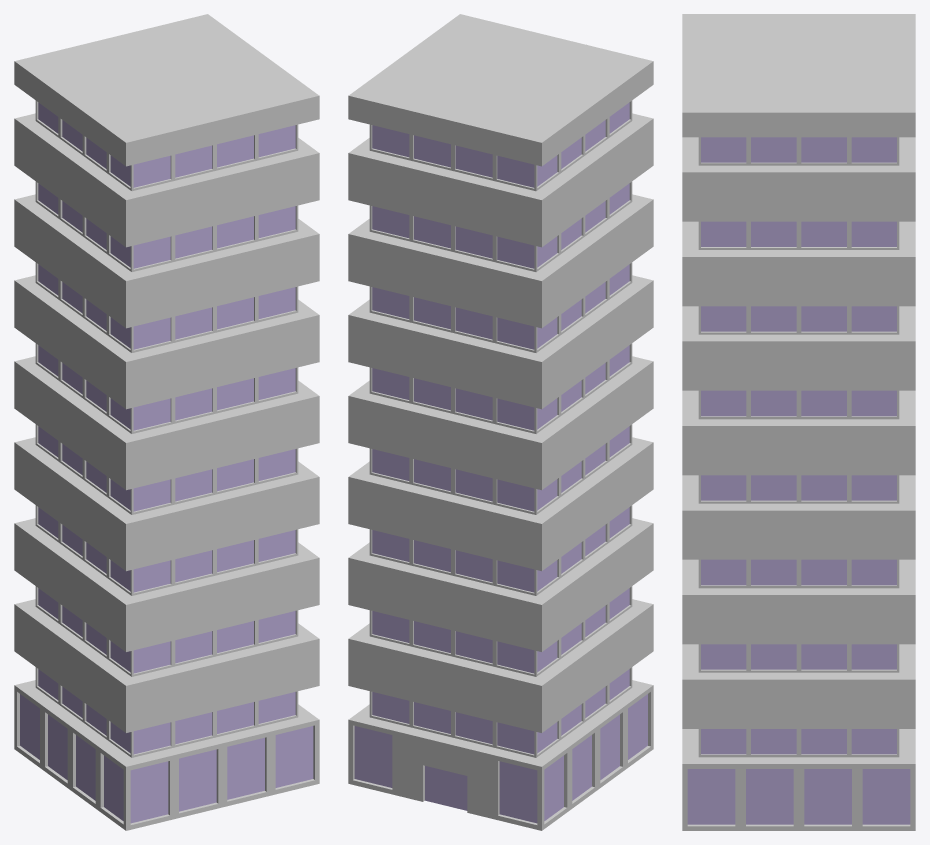
The model's file is building2.fbx.
The picture shows the model from 3 angles, left to right: view 1: azimuth 30°, elevation 25°; view 2: azimuth 150°, elevation 25°; view 3: azimuth 270°, elevation 25°; orthographic projection. The views are drawn at different scales.
Visible parts, largest first — view 1: Cube; view 2: Cube; view 3: Cube.
Boxes of the visible parts, <box> form: Cube: <box>14,14,319,830</box>; Cube: <box>348,14,653,830</box>; Cube: <box>682,14,915,830</box>.
Bounding box in the file's own units: 20 × 68 × 20.
